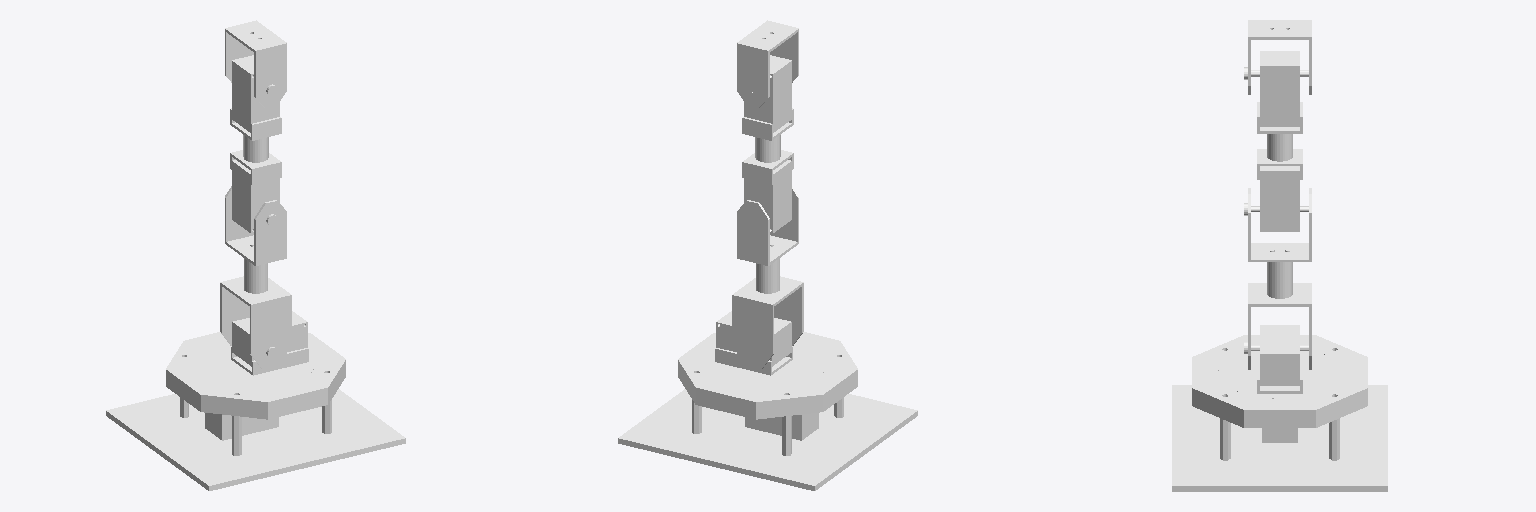
robot.urdf — robot_arm_4dof:
<?xml version="1.0" encoding="utf-8"?>
<!-- This URDF was automatically created by SolidWorks to URDF Exporter! Originally created by [author] ([email redacted]) 
     Commit Version: 1.5.0-0-g9aa0fdb  Build Version: 1.5.7004.21443
     For more information, please see http://wiki.ros.org/sw_urdf_exporter -->
<robot
  name="robot_arm_4dof">
  <link
    name="base_link">
    <inertial>
      <origin
        xyz="-0.0015249 0 0.020206"
        rpy="0 0 0" />
      <mass
        value="0.18853" />
      <inertia
        ixx="0.00023778"
        ixy="6.0727E-20"
        ixz="2.0572E-22"
        iyy="0.00027035"
        iyz="1.097E-21"
        izz="0.00050254" />
    </inertial>
    <visual>
      <origin
        xyz="0 0 0"
        rpy="0 0 0" />
      <geometry>
        <mesh
          filename="package://robot_arm_4dof_description/meshes/base_link.STL" />
      </geometry>
      <material
        name="">
        <color
          rgba="1 1 1 1" />
      </material>
    </visual>
    <collision>
      <origin
        xyz="0 0 0"
        rpy="0 0 0" />
      <geometry>
        <mesh
          filename="package://robot_arm_4dof_description/meshes/base_link.STL" />
      </geometry>
    </collision>
  </link>
  <link
    name="link1">
    <inertial>
      <origin
        xyz="-0.0034892 3.5885E-19 0.00035061"
        rpy="0 0 0" />
      <mass
        value="0.095317" />
      <inertia
        ixx="3.0197E-05"
        ixy="4.7168E-22"
        ixz="-5.447E-10"
        iyy="3.3082E-05"
        iyz="-4.6669E-22"
        izz="5.8999E-05" />
    </inertial>
    <visual>
      <origin
        xyz="0 0 0"
        rpy="0 0 0" />
      <geometry>
        <mesh
          filename="package://robot_arm_4dof_description/meshes/link1.STL" />
      </geometry>
      <material
        name="">
        <color
          rgba="1 1 1 1" />
      </material>
    </visual>
    <collision>
      <origin
        xyz="0 0 0"
        rpy="0 0 0" />
      <geometry>
        <mesh
          filename="package://robot_arm_4dof_description/meshes/link1.STL" />
      </geometry>
    </collision>
  </link>
  <joint
    name="joint1"
    type="revolute">
    <origin
      xyz="0 0 0.049"
      rpy="0 0 3.14159" />
    <parent
      link="base_link" />
    <child
      link="link1" />
    <axis
      xyz="0 0 1" />
    <limit
      lower="-3.1416"
      upper="3.1416"
      effort="0"
      velocity="0" />
    <safety_controller
      soft_upper_limit="3.1416"
      soft_lower_limit="-3.1416"
      k_position="100"
      k_velocity="1" />
  </joint>
  <link
    name="link2">
    <inertial>
      <origin
        xyz="0.048692 0 0"
        rpy="0 0 0" />
      <mass
        value="0.022109" />
      <inertia
        ixx="6.0251E-06"
        ixy="-5.3281E-22"
        ixz="6.4735E-24"
        iyy="8.5872E-06"
        iyz="-5.2397E-22"
        izz="4.7496E-06" />
    </inertial>
    <visual>
      <origin
        xyz="0 0 0"
        rpy="0 0 0" />
      <geometry>
        <mesh
          filename="package://robot_arm_4dof_description/meshes/link2.STL" />
      </geometry>
      <material
        name="">
        <color
          rgba="1 1 1 1" />
      </material>
    </visual>
    <collision>
      <origin
        xyz="0 0 0"
        rpy="0 0 0" />
      <geometry>
        <mesh
          filename="package://robot_arm_4dof_description/meshes/link2.STL" />
      </geometry>
    </collision>
  </link>
  <joint
    name="joint2"
    type="revolute">
    <origin
      xyz="0 0 0.0175"
      rpy="1.5708 -1.5708 0" />
    <parent
      link="link1" />
    <child
      link="link2" />
    <axis
      xyz="0 0 1" />
    <limit
      lower="-3.1416"
      upper="3.1416"
      effort="0"
      velocity="0" />
    <safety_controller
      soft_upper_limit="0.7854"
      soft_lower_limit="-1.5708"
      k_position="100"
      k_velocity="1" />
  </joint>
  <link
    name="link3">
    <inertial>
      <origin
        xyz="0.0485 0 0"
        rpy="0 0 0" />
      <mass
        value="0.061115" />
      <inertia
        ixx="6.1399E-06"
        ixy="4.6601E-18"
        ixz="-4.2024E-23"
        iyy="1.2106E-05"
        iyz="-6.0861E-23"
        izz="1.1137E-05" />
    </inertial>
    <visual>
      <origin
        xyz="0 0 0"
        rpy="0 0 0" />
      <geometry>
        <mesh
          filename="package://robot_arm_4dof_description/meshes/link3.STL" />
      </geometry>
      <material
        name="">
        <color
          rgba="1 1 1 1" />
      </material>
    </visual>
    <collision>
      <origin
        xyz="0 0 0"
        rpy="0 0 0" />
      <geometry>
        <mesh
          filename="package://robot_arm_4dof_description/meshes/link3.STL" />
      </geometry>
    </collision>
  </link>
  <joint
    name="joint3"
    type="revolute">
    <origin
      xyz="0.099 0 0"
      rpy="0 0 0" />
    <parent
      link="link2" />
    <child
      link="link3" />
    <axis
      xyz="0 0 -1" />
    <limit
      lower="-3.1416"
      upper="3.1416"
      effort="0"
      velocity="0" />
    <safety_controller
      soft_upper_limit="2.3562"
      soft_lower_limit="-2.3562"
      k_position="100"
      k_velocity="1" />
  </joint>
  <link
    name="link4">
    <inertial>
      <origin
        xyz="0.015667 0 0"
        rpy="0 0 0" />
      <mass
        value="0.0066298" />
      <inertia
        ixx="2.3018E-06"
        ixy="2.0733E-22"
        ixz="1.1702E-21"
        iyy="3.1361E-06"
        iyz="4.5558E-22"
        izz="1.4386E-06" />
    </inertial>
    <visual>
      <origin
        xyz="0 0 0"
        rpy="0 0 0" />
      <geometry>
        <mesh
          filename="package://robot_arm_4dof_description/meshes/link4.STL" />
      </geometry>
      <material
        name="">
        <color
          rgba="1 1 1 1" />
      </material>
    </visual>
    <collision>
      <origin
        xyz="0 0 0"
        rpy="0 0 0" />
      <geometry>
        <mesh
          filename="package://robot_arm_4dof_description/meshes/link4.STL" />
      </geometry>
    </collision>
  </link>
  <joint
    name="joint4"
    type="revolute">
    <origin
      xyz="0.097 0 0"
      rpy="0 0 0" />
    <parent
      link="link3" />
    <child
      link="link4" />
    <axis
      xyz="0 0 1" />
    <limit
      lower="-3.1416"
      upper="3.1416"
      effort="0"
      velocity="0" />
    <safety_controller
      soft_upper_limit="2.3562"
      soft_lower_limit="-1.5708"
      k_position="100"
      k_velocity="1" />
  </joint>

  <link name="fake_end"/>
  <joint name="fake_joint" type="fixed">
    <origin xyz="0 0 0" rpy="0 0 0" />
    <parent link="link4" />
    <child link="fake_end" />
  </joint>
</robot>

--- Render facts (derived) ---
The picture shows the robot from 3 angles, left to right: view 1: azimuth 30°, elevation 25°; view 2: azimuth 150°, elevation 25°; view 3: azimuth 270°, elevation 25°; orthographic projection.
Model robot_arm_4dof with 6 links and 5 joints (4 revolute, 1 fixed), rooted at base_link, posed every joint at zero.
Links seen in each view (by area): view 1: base_link, link2, link3, link1, link4; view 2: base_link, link2, link3, link1, link4; view 3: base_link, link3, link1, link2, link4.
Boxes of the visible links, x1=… form: base_link: x1=106, y1=332, x2=405, y2=490; link2: x1=220, y1=186, x2=291, y2=370; link3: x1=230, y1=55, x2=281, y2=232; link1: x1=197, y1=311, x2=314, y2=388; link4: x1=225, y1=20, x2=286, y2=107; base_link: x1=618, y1=332, x2=917, y2=490; link2: x1=732, y1=186, x2=803, y2=370; link3: x1=742, y1=55, x2=793, y2=232; link1: x1=709, y1=311, x2=826, y2=388; link4: x1=737, y1=20, x2=798, y2=107; base_link: x1=1172, y1=335, x2=1387, y2=491; link3: x1=1257, y1=51, x2=1302, y2=231; link1: x1=1218, y1=325, x2=1341, y2=398; link2: x1=1244, y1=188, x2=1311, y2=369; link4: x1=1244, y1=20, x2=1311, y2=94.
Bounding box of the posed robot: 0.154 × 0.14 × 0.2945 m (x, y, z).
Meshes: 5 distinct files referenced, 5 mesh visuals loaded (5 binary STL).